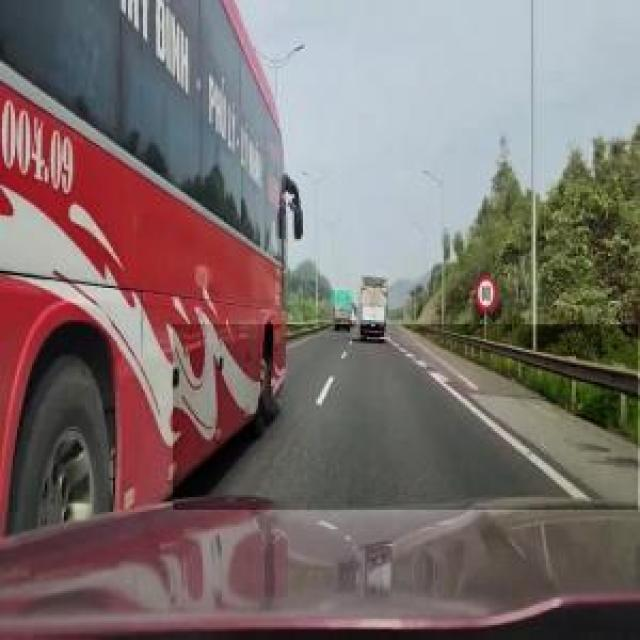clear-road: (173, 326, 640, 510)
